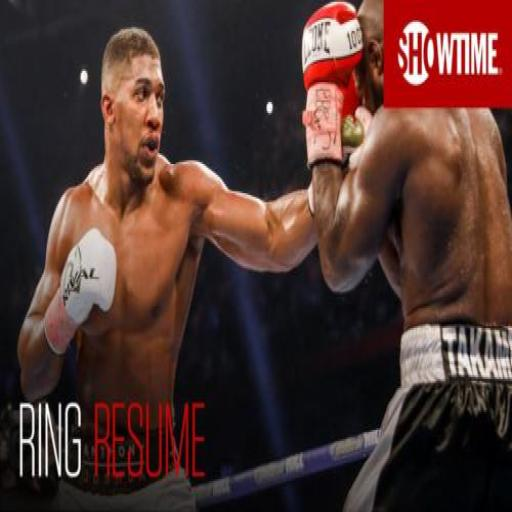boxing: (16, 7, 366, 510), (302, 0, 511, 510)
